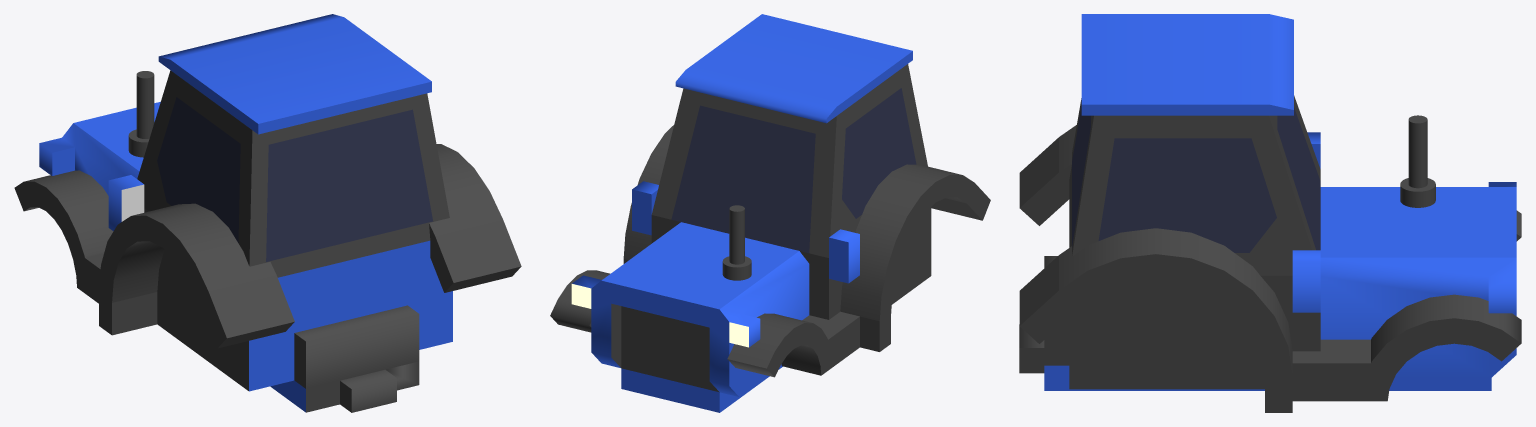
Rendered from SM_Tractor_Body.fbx.
The picture shows the model from 3 angles, left to right: view 1: azimuth 30°, elevation 25°; view 2: azimuth 150°, elevation 25°; view 3: azimuth 270°, elevation 25°; orthographic projection. The views are drawn at different scales.
Parts seen in each view (by area): view 1: SM_Tractor_Body; view 2: SM_Tractor_Body; view 3: SM_Tractor_Body.
Boxes of the visible parts, <box> form: SM_Tractor_Body: <box>14,14,521,412</box>; SM_Tractor_Body: <box>550,14,990,412</box>; SM_Tractor_Body: <box>1019,14,1521,412</box>.
Size of the model in its own units: 1.46 by 1.34 by 2.02.
